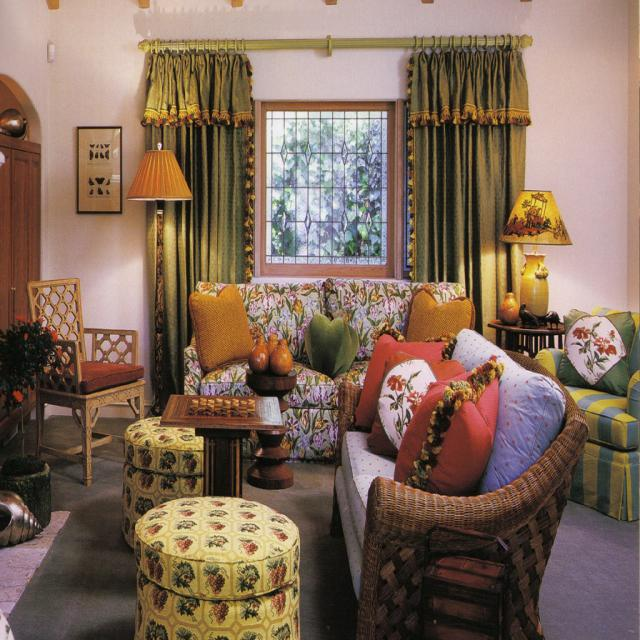2001: (258, 102, 396, 277)
cabinets: (1, 132, 41, 440)
chair -occluded-: (25, 278, 144, 482), (537, 304, 638, 521)
checkers: (160, 392, 281, 494)
checkers table: (191, 397, 255, 418)
cooler: (422, 522, 508, 635)
couch -x: (330, 329, 585, 637)
curtains: (139, 32, 534, 385)
figurine -X: (521, 302, 541, 329), (542, 312, 559, 328)
floor -X: (6, 416, 136, 638), (244, 463, 355, 639), (539, 503, 639, 639)
gourd: (248, 336, 268, 372), (271, 339, 291, 374), (498, 292, 519, 322), (266, 334, 276, 348)
lamp crop: (129, 151, 191, 413), (502, 192, 572, 312)
metal seashell: (2, 106, 28, 138)
metal shell decoration: (1, 490, 43, 548)
motion detector: (48, 43, 54, 60)
ottoman: (132, 495, 299, 637), (122, 412, 202, 545)
picture crop: (75, 124, 122, 212)
pillow occluded: (396, 362, 497, 488), (366, 358, 462, 456), (558, 307, 636, 392), (186, 282, 252, 368), (304, 313, 359, 377), (402, 288, 471, 339)
potted flowers: (1, 313, 63, 528)
sofa bed: (184, 278, 472, 462)
table -X: (244, 367, 295, 485), (489, 324, 565, 351)
wall clock: (1, 0, 639, 418)
